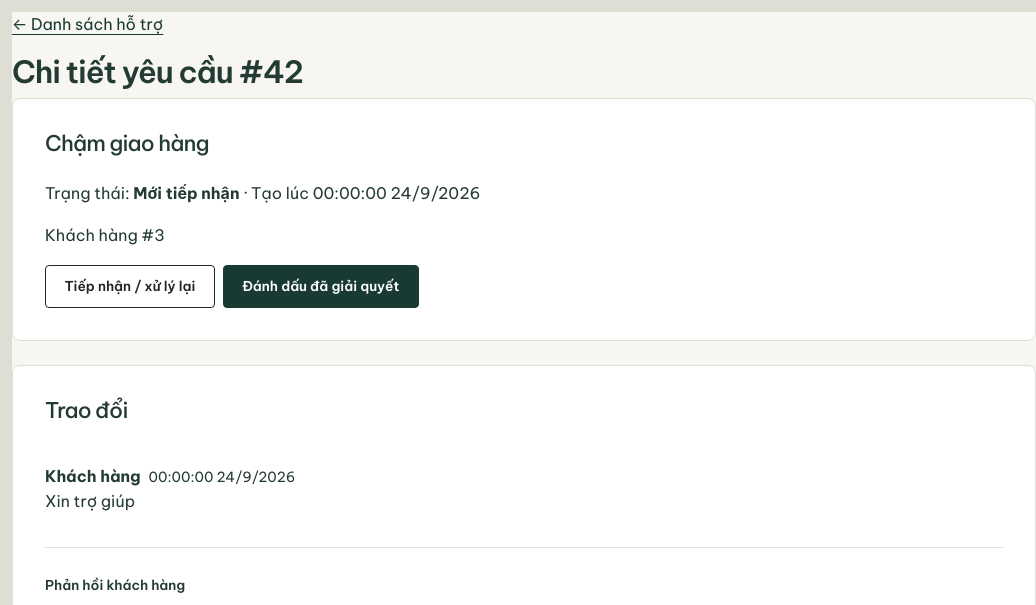
Test: nhân viên xử lý ticket và hiển thị phản hồi từ API
This screenshot has width=1036, height=605.
What coordinates should you click on to do the following:
click the button "Tiếp nhận / xử lý lại"
I would click on:
 (130, 286)
Its box is [45,264,215,308].
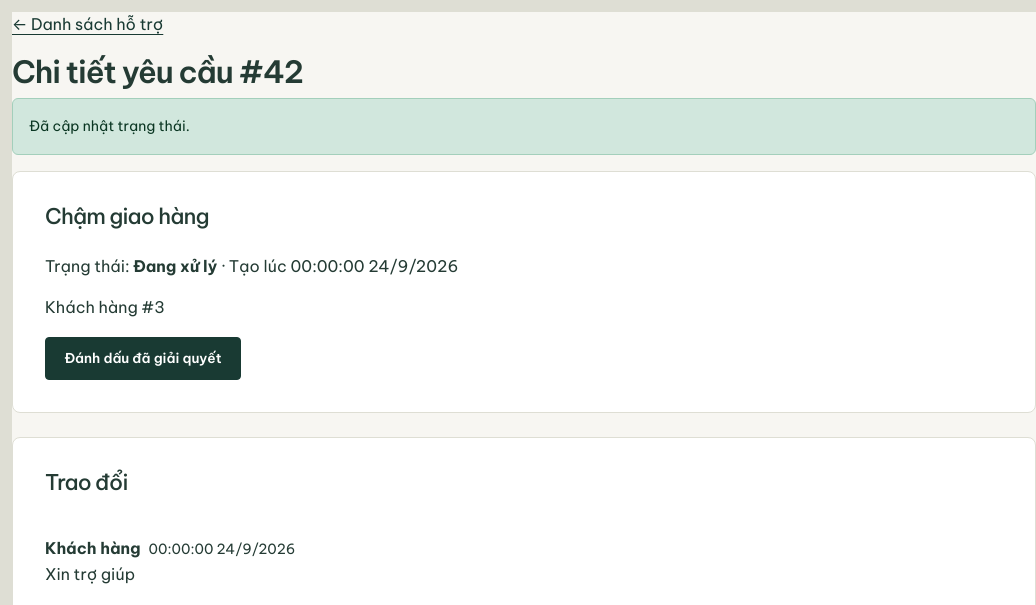
Expected: the text "Đang xử lý" is shown, [133,256,217,276]
